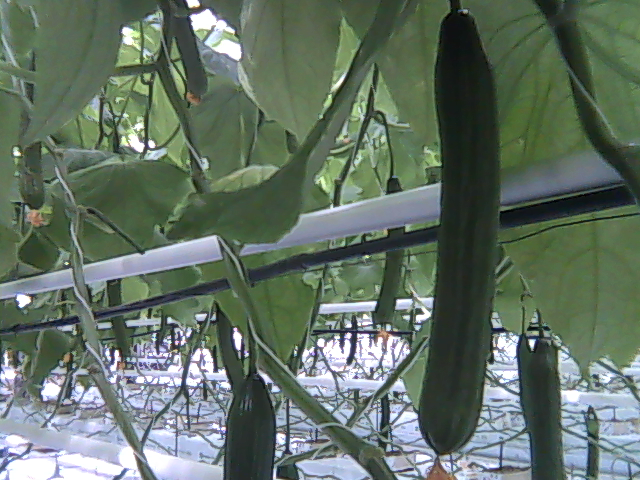concombre: (414, 1, 504, 480), (221, 368, 280, 480)
